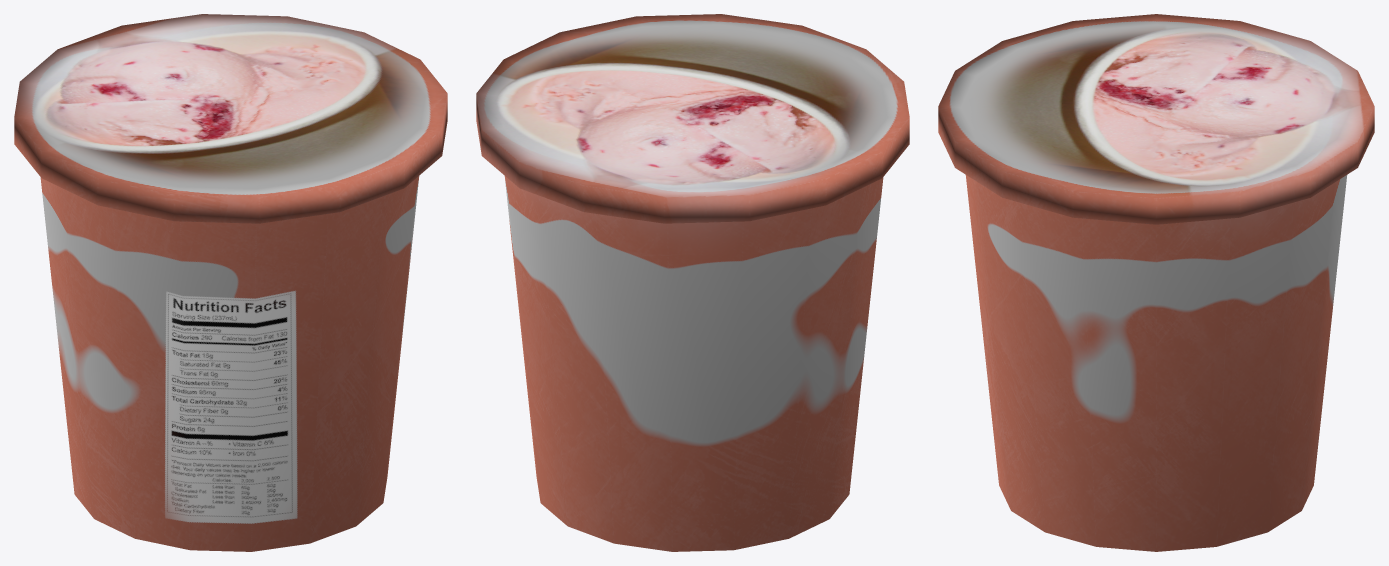
File: iceCream_Small.fbx
3 views of the same model, side by side, from view 1: azimuth 30°, elevation 25°; view 2: azimuth 150°, elevation 25°; view 3: azimuth 270°, elevation 25° (orthographic).
Visible parts, largest first — view 1: Ice Cream_Small; view 2: Ice Cream_Small; view 3: Ice Cream_Small.
Part boxes in pixels (bbox=[...]): Ice Cream_Small: bbox=[14, 14, 447, 551]; Ice Cream_Small: bbox=[476, 14, 909, 551]; Ice Cream_Small: bbox=[938, 14, 1374, 551].
Size of the model in its own units: 128 by 122 by 128.
1 material, 1 textured.
